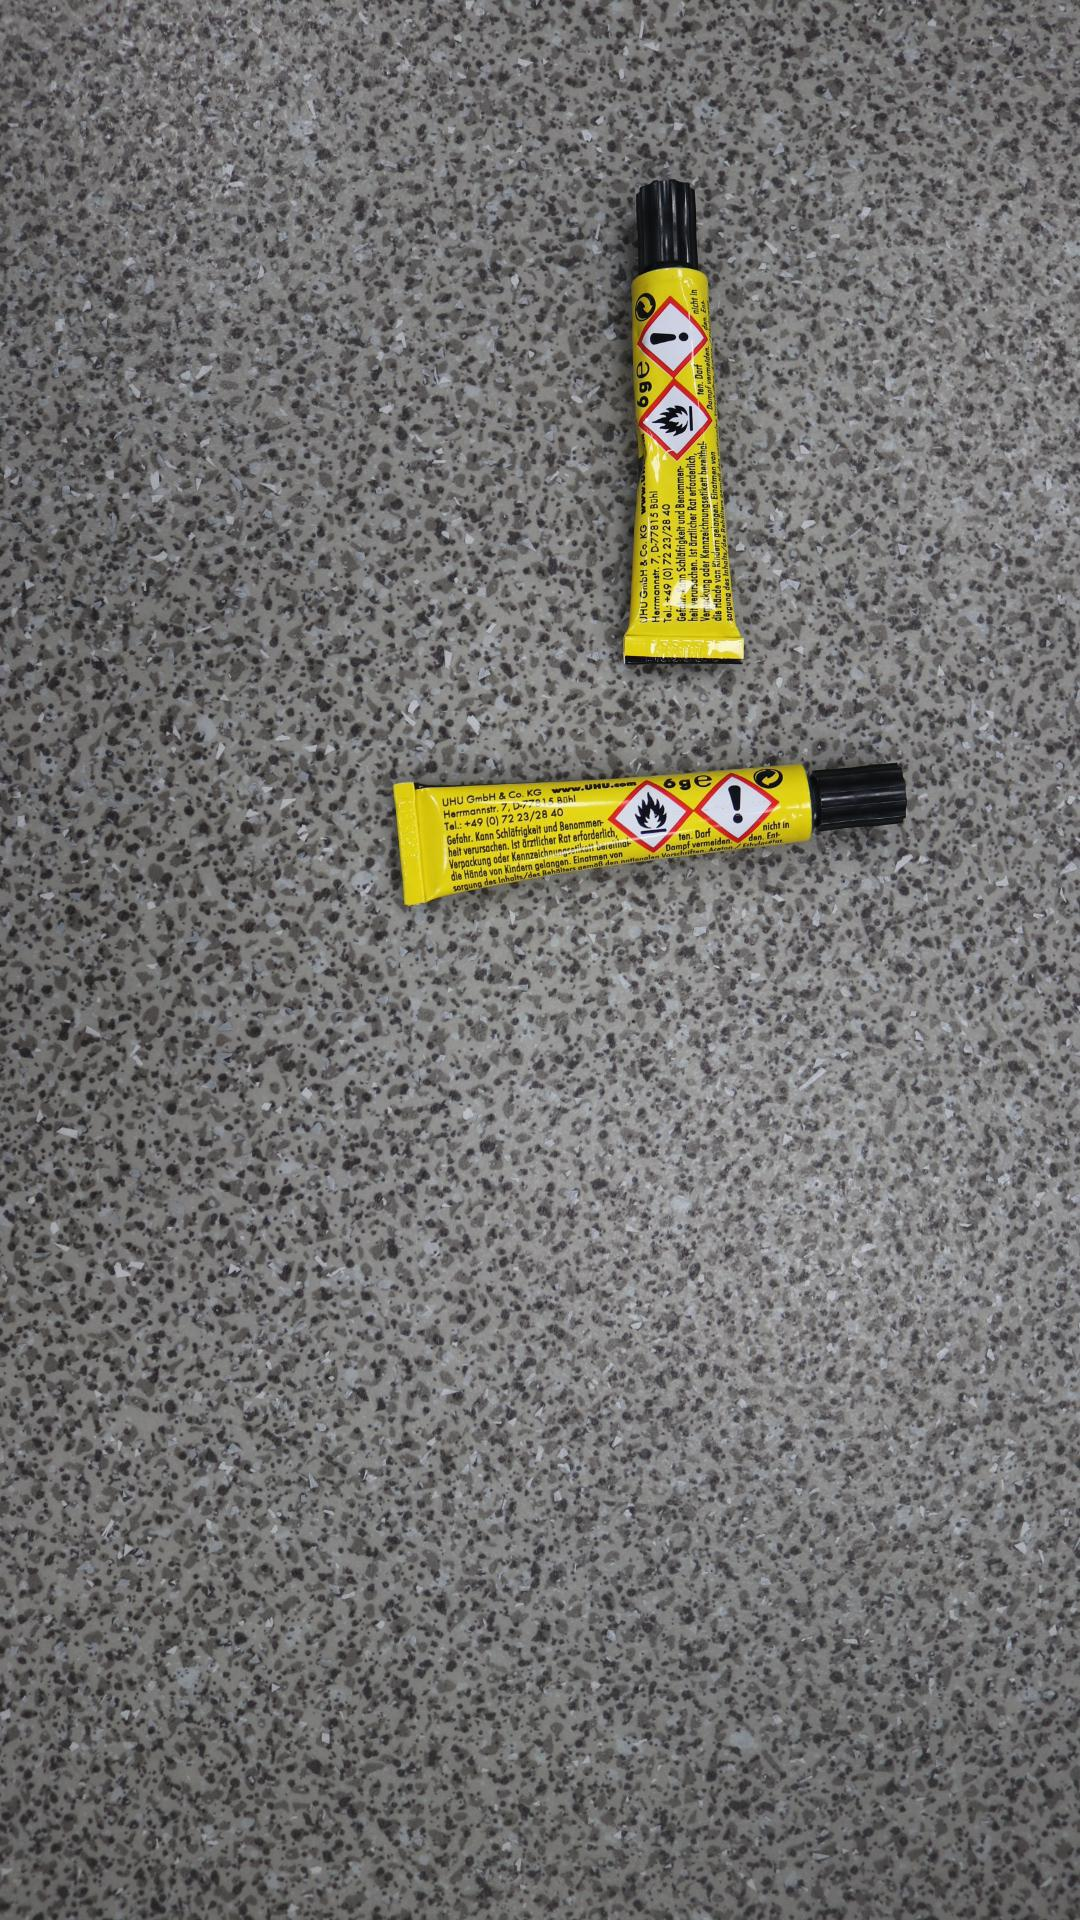Head: (663, 218, 670, 226), (856, 791, 863, 798)
Tail: (681, 644, 690, 654), (407, 839, 414, 848)
Tube: (392, 760, 910, 904), (618, 178, 749, 666)
